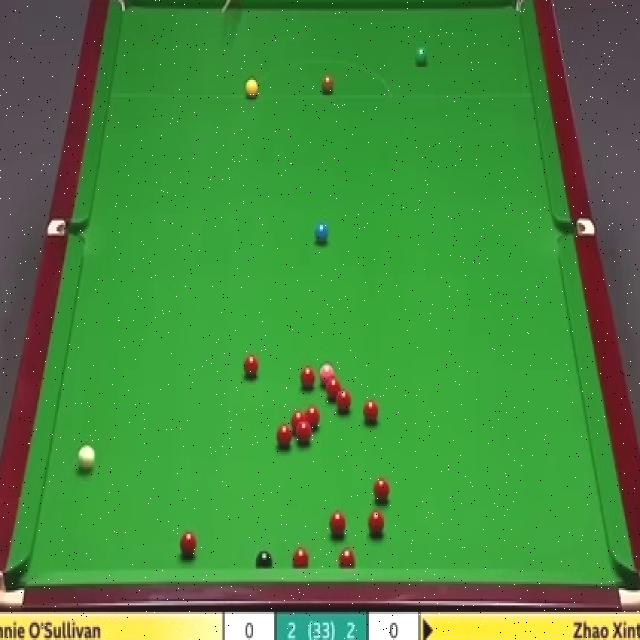black-ball: (259, 551, 277, 568)
blue-ball: (314, 224, 329, 242)
brown-ball: (322, 75, 334, 95)
green-ball: (414, 48, 427, 65)
pink-ball: (319, 363, 335, 385)
red-ball: (372, 478, 391, 505), (330, 510, 347, 539), (180, 533, 198, 558), (291, 546, 311, 568), (306, 404, 325, 427), (368, 511, 385, 536), (363, 399, 380, 424), (276, 423, 292, 449), (298, 367, 316, 390), (243, 352, 260, 376), (334, 388, 351, 412), (340, 544, 355, 568), (298, 421, 312, 443), (326, 377, 341, 397), (292, 411, 306, 432)
white-ball: (78, 440, 95, 474)
yellow-ball: (245, 78, 259, 100)
